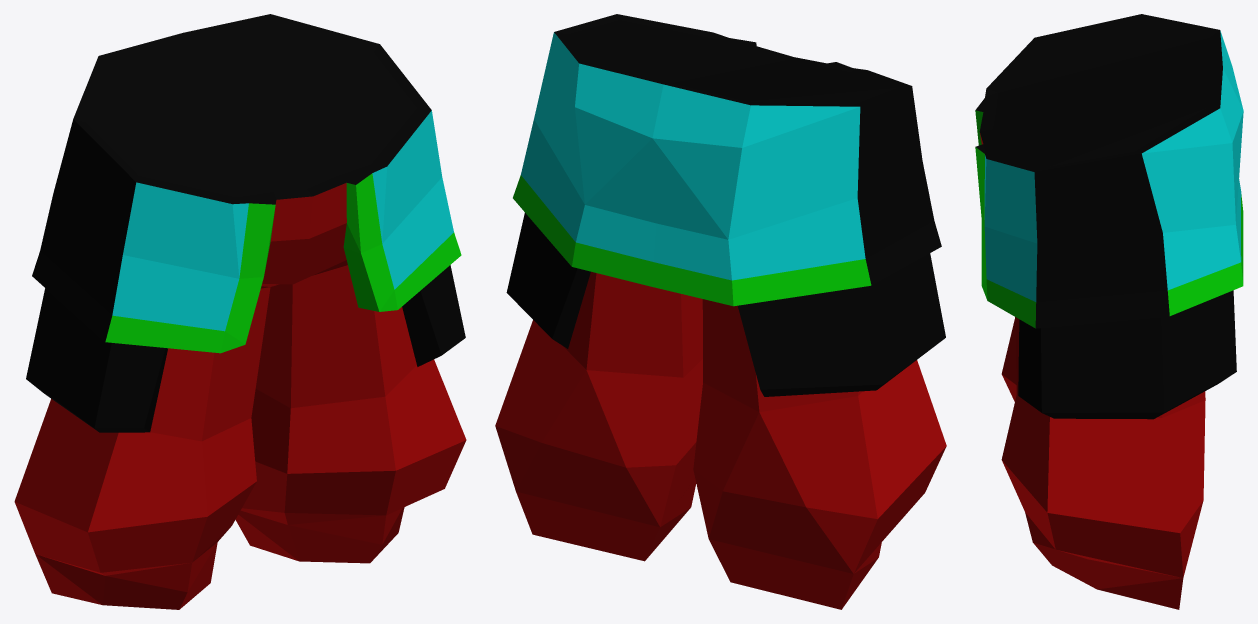
Rendered from Chr_Hips_Male_Static_11.fbx.
3 renders of one model, left to right at view 1: azimuth 30°, elevation 25°; view 2: azimuth 150°, elevation 25°; view 3: azimuth 270°, elevation 25°, orthographic. The views are drawn at different scales.
Parts seen in each view (by area): view 1: Chr_Hips_Male_11; view 2: Chr_Hips_Male_11; view 3: Chr_Hips_Male_11.
Part boxes in pixels (bbox=[...]): Chr_Hips_Male_11: bbox=[14, 14, 466, 609]; Chr_Hips_Male_11: bbox=[495, 14, 946, 609]; Chr_Hips_Male_11: bbox=[975, 14, 1243, 609].
Size of the model in its own units: 43.97 by 55.45 by 28.61.
